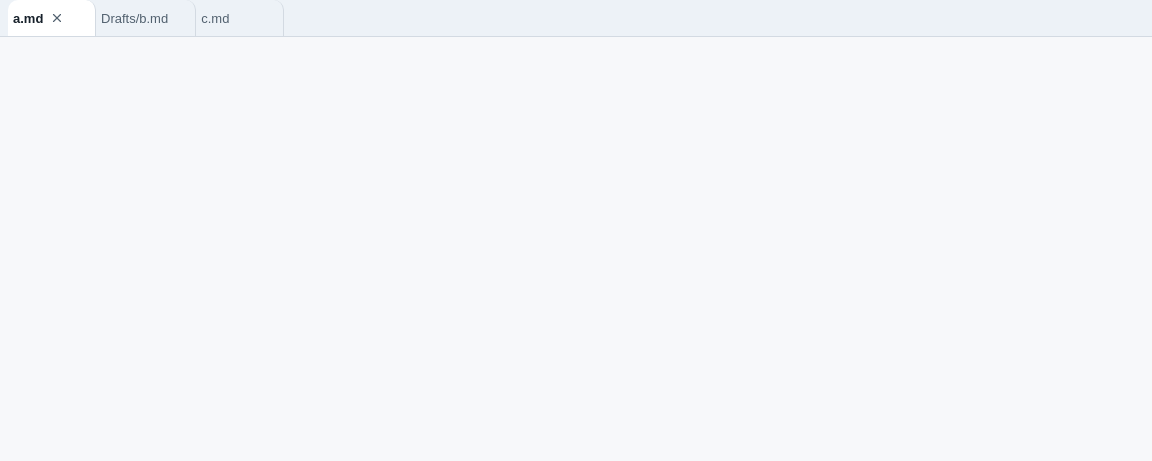
Document Tab context menu shortcut column › keeps item order and the button's accessible name free of the shortcut
The image size is (1152, 461).
Right-click the tab "a.md" at (52, 18), box [8,0,96,36]
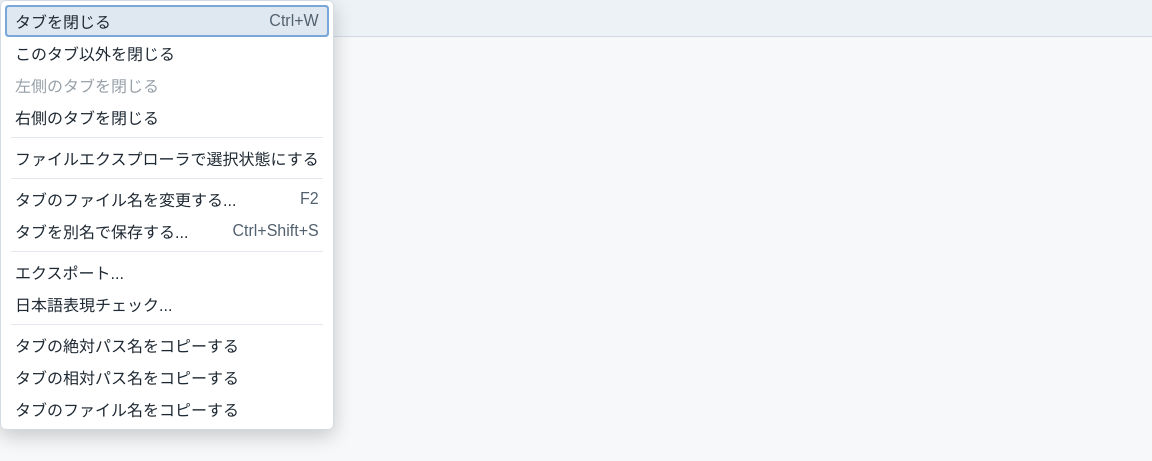
Expected: the text with class "contextMenuItemLabel" reads "タブを閉じる", [15,14,111,31]
